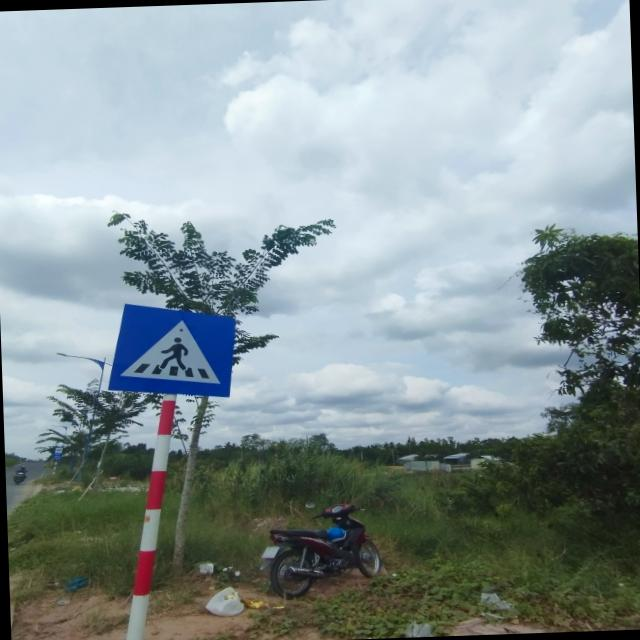Giao_Nhau_Duong_Uu_Tien: (105, 298, 238, 401)
